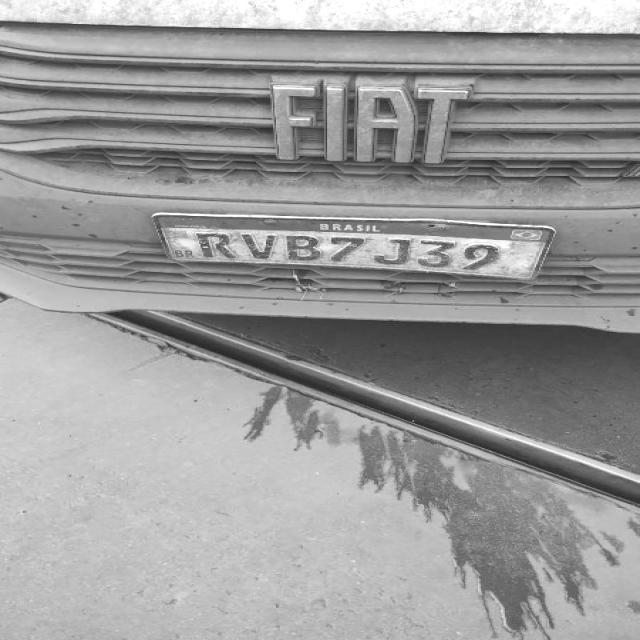placa_mercosul: (158, 215, 552, 283)
